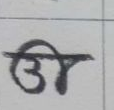i_matra: (39, 38, 69, 93)
